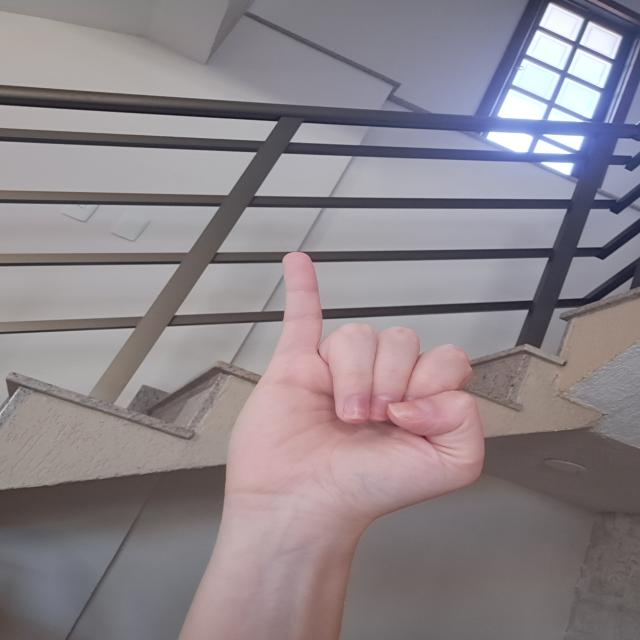I: (219, 245, 492, 537)
